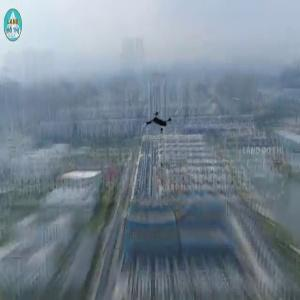drone: (141, 107, 180, 146)
